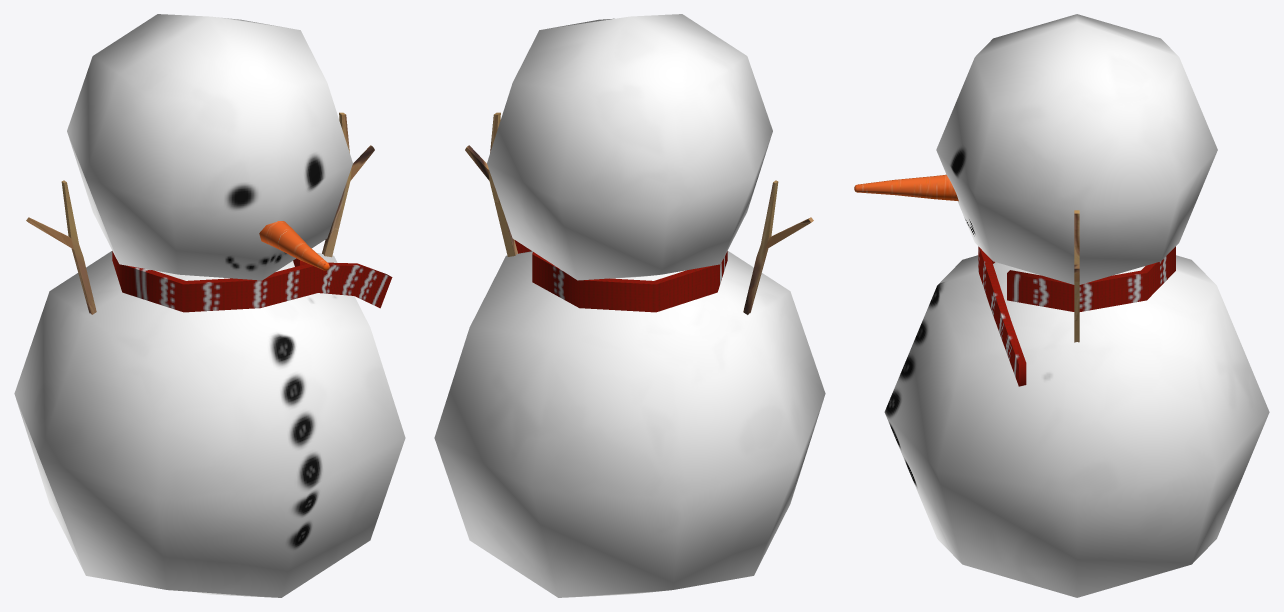
Rendered from snowman.obj.
3 views of the same model, side by side, from view 1: azimuth 30°, elevation 25°; view 2: azimuth 150°, elevation 25°; view 3: azimuth 270°, elevation 25° (orthographic). The views are drawn at different scales.
Visible parts, largest first — view 1: Winter_Snowman_winter_snowman_0; view 2: Winter_Snowman_winter_snowman_0; view 3: Winter_Snowman_winter_snowman_0.
Boxes of the visible parts, bbox=[...] form: Winter_Snowman_winter_snowman_0: bbox=[14, 14, 405, 597]; Winter_Snowman_winter_snowman_0: bbox=[434, 14, 825, 597]; Winter_Snowman_winter_snowman_0: bbox=[854, 14, 1269, 597].
Size of the model in its own units: 0.5099 by 0.7969 by 0.5313.
